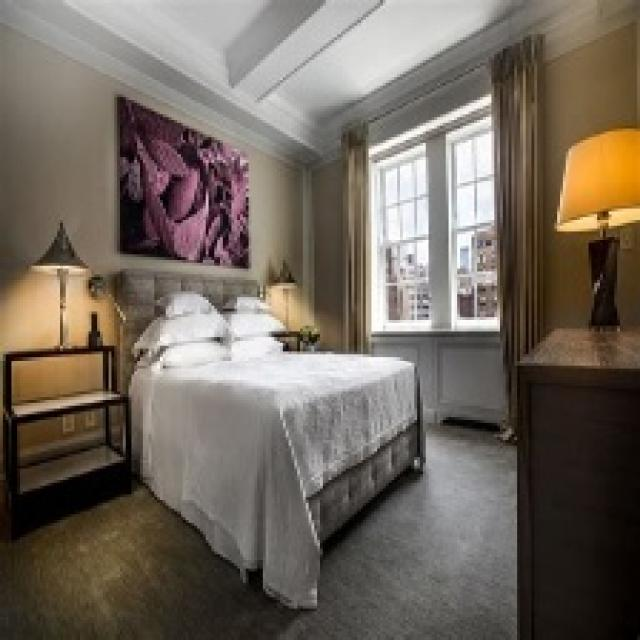Bed: (111, 268, 426, 608)
